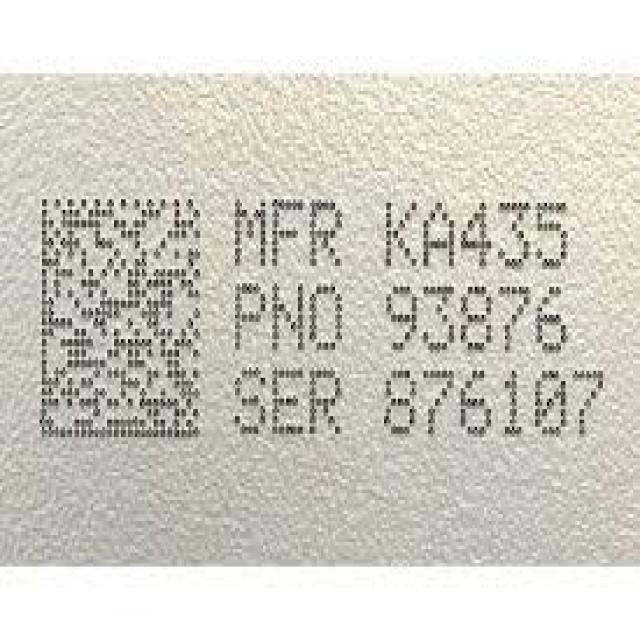datamatrix: (31, 186, 208, 456)
